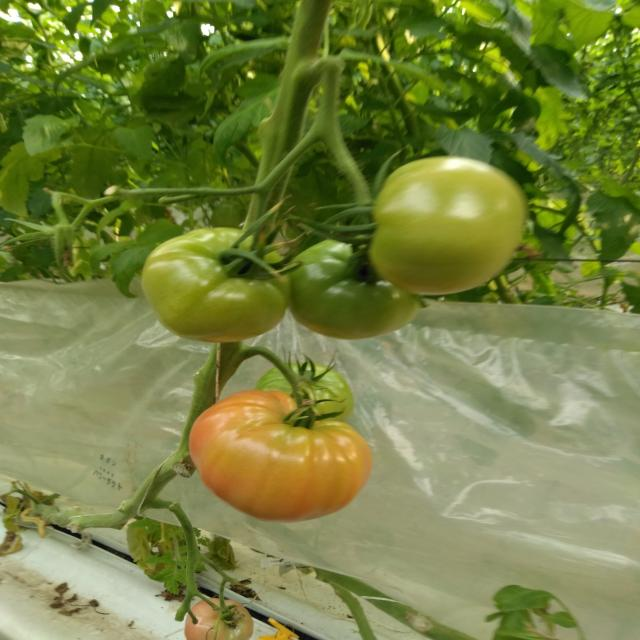n-half-riped: (188, 389, 374, 524), (184, 598, 254, 640)
n-unriped: (366, 157, 527, 296), (142, 227, 292, 344), (288, 233, 421, 340), (254, 362, 355, 423)
